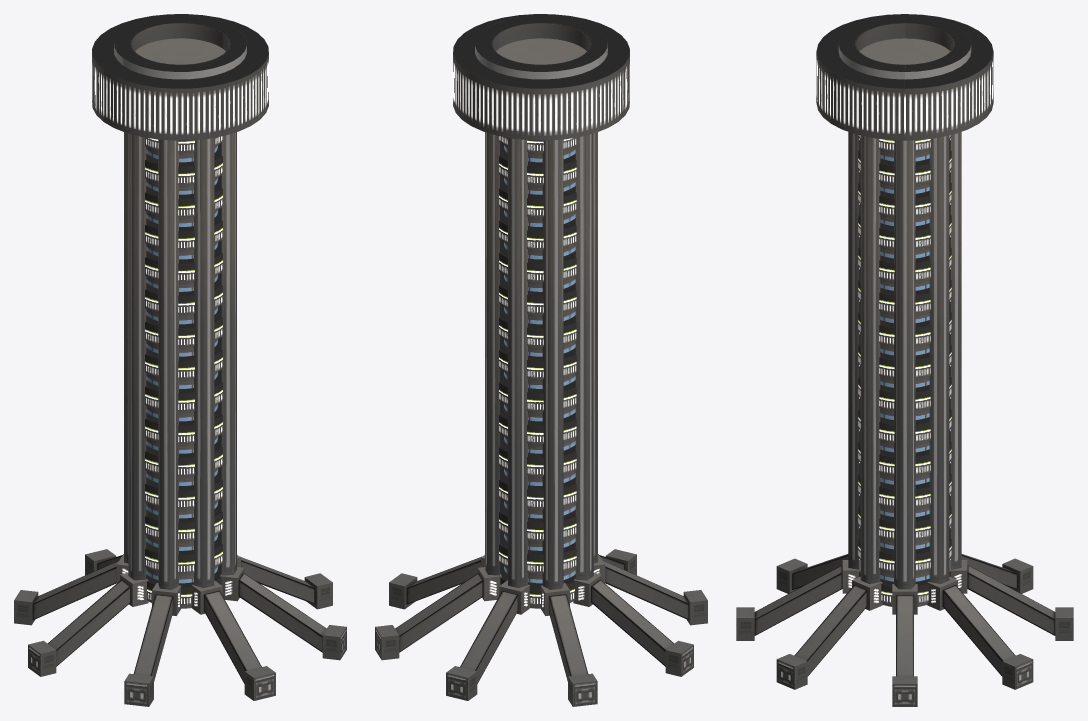
Rendered from Sci-Fi_Prefab_Var12.fbx.
3 views of the same model, side by side, from view 1: azimuth 30°, elevation 25°; view 2: azimuth 150°, elevation 25°; view 3: azimuth 270°, elevation 25° (orthographic).
Parts seen in each view (by area): view 1: ProjectRG_Environment_Sci-Fi_DonutViewingBlock.025, ProjectRG_Environment_Sci-Fi_TallTowerSupport.027, ProjectRG_Environment_Sci-Fi_TallTowerSupport.023, ProjectRG_Environment_Sci-Fi_TallTowerSupport.022, ProjectRG_Environment_Sci-Fi_TallTowerSupport.024, ProjectRG_Environment_Sci-Fi_DonutViewingBlock.026, ProjectRG_Environment_Sci-Fi_BottomFoundation.008, ProjectRG_Environment_Sci-Fi_BottomFoundation.010, ProjectRG_Environment_Sci-Fi_BottomFoundation.009, ProjectRG_Environment_Sci-Fi_BottomFoundation.013, ProjectRG_Environment_Sci-Fi_BottomFoundation.012, ProjectRG_Environment_Sci-Fi_TallTowerSupport.026 (+17 smaller); view 2: ProjectRG_Environment_Sci-Fi_DonutViewingBlock.025, ProjectRG_Environment_Sci-Fi_TallTowerSupport.026, ProjectRG_Environment_Sci-Fi_TallTowerSupport.021, ProjectRG_Environment_Sci-Fi_TallTowerSupport.022, ProjectRG_Environment_Sci-Fi_TallTowerSupport.025, ProjectRG_Environment_Sci-Fi_DonutViewingBlock.026, ProjectRG_Environment_Sci-Fi_BottomFoundation.008, ProjectRG_Environment_Sci-Fi_BottomFoundation.011, ProjectRG_Environment_Sci-Fi_BottomFoundation.007, ProjectRG_Environment_Sci-Fi_BottomFoundation.012, ProjectRG_Environment_Sci-Fi_BottomFoundation.013, ProjectRG_Environment_Sci-Fi_TallTowerSupport.027 (+17 smaller); view 3: ProjectRG_Environment_Sci-Fi_DonutViewingBlock.025, ProjectRG_Environment_Sci-Fi_TallTowerSupport.020, ProjectRG_Environment_Sci-Fi_TallTowerSupport.024, ProjectRG_Environment_Sci-Fi_TallTowerSupport.025, ProjectRG_Environment_Sci-Fi_DonutViewingBlock.026, ProjectRG_Environment_Sci-Fi_TallTowerSupport.021, ProjectRG_Environment_Sci-Fi_TallTowerSupport.023, ProjectRG_Environment_Sci-Fi_BottomFoundation.010, ProjectRG_Environment_Sci-Fi_BottomFoundation.011, ProjectRG_Environment_Sci-Fi_BottomFoundation.007, ProjectRG_Environment_Sci-Fi_BottomFoundation.009, ProjectRG_Environment_Sci-Fi_BottomFoundation.003 (+17 smaller).
Boxes of the visible parts, left/top/right/bottom form: ProjectRG_Environment_Sci-Fi_DonutViewingBlock.025: left=92, top=14, right=268, bottom=140; ProjectRG_Environment_Sci-Fi_TallTowerSupport.027: left=158, top=139, right=178, bottom=589; ProjectRG_Environment_Sci-Fi_TallTowerSupport.023: left=194, top=138, right=214, bottom=587; ProjectRG_Environment_Sci-Fi_TallTowerSupport.022: left=128, top=133, right=146, bottom=580; ProjectRG_Environment_Sci-Fi_TallTowerSupport.024: left=221, top=132, right=236, bottom=575; ProjectRG_Environment_Sci-Fi_DonutViewingBlock.026: left=114, top=16, right=246, bottom=79; ProjectRG_Environment_Sci-Fi_BottomFoundation.008: left=28, top=573, right=148, bottom=676; ProjectRG_Environment_Sci-Fi_BottomFoundation.010: left=220, top=567, right=346, bottom=660; ProjectRG_Environment_Sci-Fi_BottomFoundation.009: left=191, top=580, right=275, bottom=700; ProjectRG_Environment_Sci-Fi_BottomFoundation.013: left=124, top=583, right=181, bottom=706; ProjectRG_Environment_Sci-Fi_BottomFoundation.012: left=14, top=554, right=128, bottom=625; ProjectRG_Environment_Sci-Fi_TallTowerSupport.026: left=124, top=132, right=128, bottom=563; ProjectRG_Environment_Sci-Fi_DonutViewingBlock.025: left=453, top=14, right=629, bottom=140; ProjectRG_Environment_Sci-Fi_TallTowerSupport.026: left=542, top=139, right=563, bottom=589; ProjectRG_Environment_Sci-Fi_TallTowerSupport.021: left=508, top=138, right=527, bottom=587; ProjectRG_Environment_Sci-Fi_TallTowerSupport.022: left=575, top=133, right=593, bottom=580; ProjectRG_Environment_Sci-Fi_TallTowerSupport.025: left=485, top=132, right=499, bottom=575; ProjectRG_Environment_Sci-Fi_DonutViewingBlock.026: left=475, top=16, right=607, bottom=79; ProjectRG_Environment_Sci-Fi_BottomFoundation.008: left=573, top=573, right=693, bottom=676; ProjectRG_Environment_Sci-Fi_BottomFoundation.011: left=375, top=567, right=501, bottom=660; ProjectRG_Environment_Sci-Fi_BottomFoundation.007: left=446, top=580, right=530, bottom=700; ProjectRG_Environment_Sci-Fi_BottomFoundation.012: left=540, top=583, right=597, bottom=706; ProjectRG_Environment_Sci-Fi_BottomFoundation.013: left=593, top=554, right=707, bottom=625; ProjectRG_Environment_Sci-Fi_TallTowerSupport.027: left=593, top=132, right=597, bottom=563; ProjectRG_Environment_Sci-Fi_DonutViewingBlock.025: left=816, top=14, right=993, bottom=140; ProjectRG_Environment_Sci-Fi_TallTowerSupport.020: left=894, top=140, right=915, bottom=589; ProjectRG_Environment_Sci-Fi_TallTowerSupport.024: left=860, top=135, right=880, bottom=583; ProjectRG_Environment_Sci-Fi_TallTowerSupport.025: left=929, top=135, right=949, bottom=583; ProjectRG_Environment_Sci-Fi_DonutViewingBlock.026: left=838, top=16, right=971, bottom=79; ProjectRG_Environment_Sci-Fi_TallTowerSupport.021: left=950, top=132, right=961, bottom=569; ProjectRG_Environment_Sci-Fi_TallTowerSupport.023: left=848, top=132, right=859, bottom=569; ProjectRG_Environment_Sci-Fi_BottomFoundation.010: left=776, top=576, right=882, bottom=689; ProjectRG_Environment_Sci-Fi_BottomFoundation.011: left=927, top=576, right=1033, bottom=689; ProjectRG_Environment_Sci-Fi_BottomFoundation.007: left=949, top=560, right=1073, bottom=640; ProjectRG_Environment_Sci-Fi_BottomFoundation.009: left=736, top=560, right=860, bottom=640; ProjectRG_Environment_Sci-Fi_BottomFoundation.003: left=892, top=584, right=917, bottom=706.
Bounding box in the file's own units: 7090 × 13731 × 7090.
